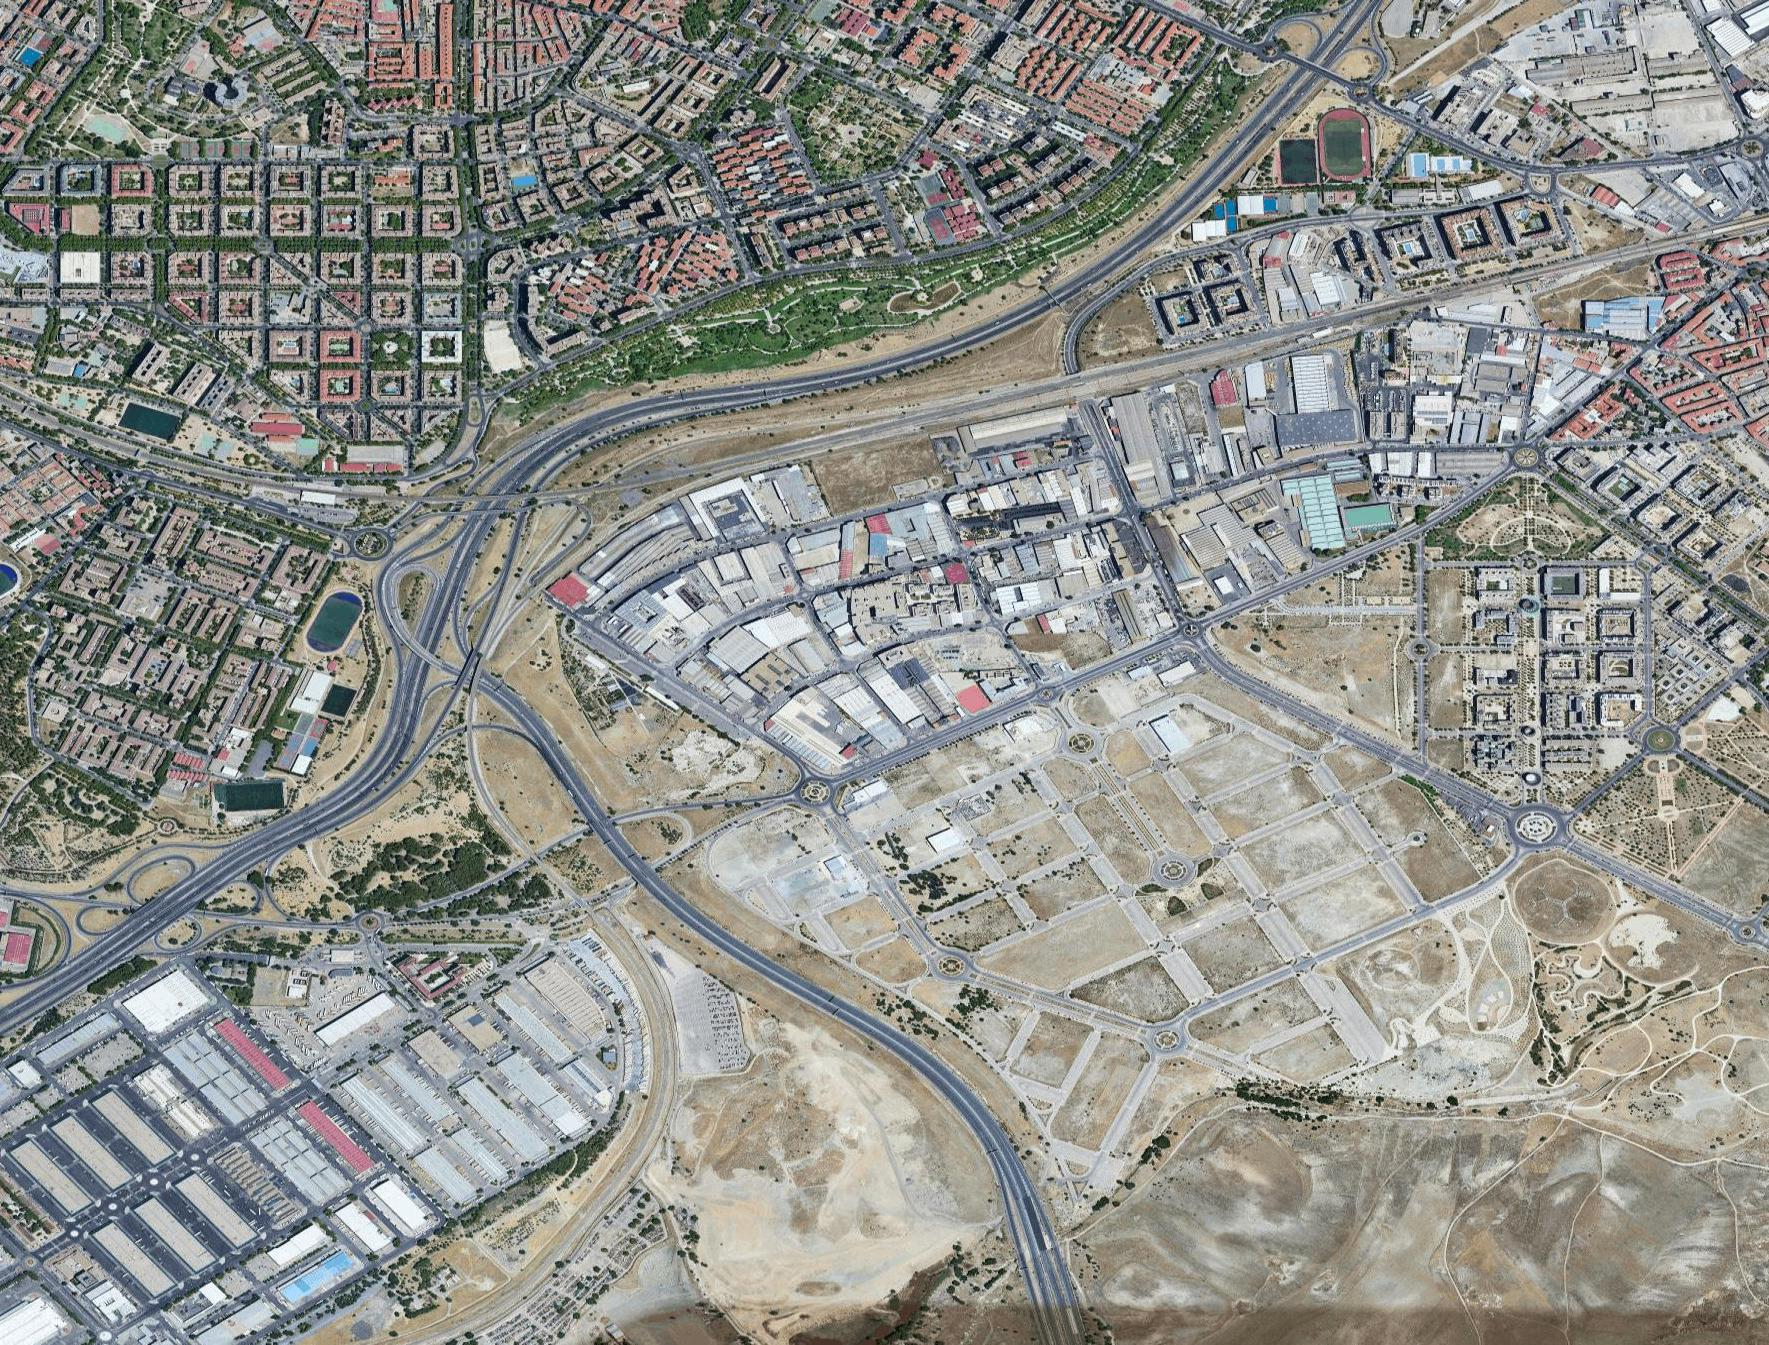industrial: (609, 295, 1489, 783), (1, 924, 596, 1345)
motorway: (1, 742, 377, 1036), (877, 168, 1212, 391), (589, 815, 900, 1045), (886, 1033, 1111, 1345), (379, 502, 603, 814), (473, 339, 877, 502), (1209, 1, 1388, 175)
